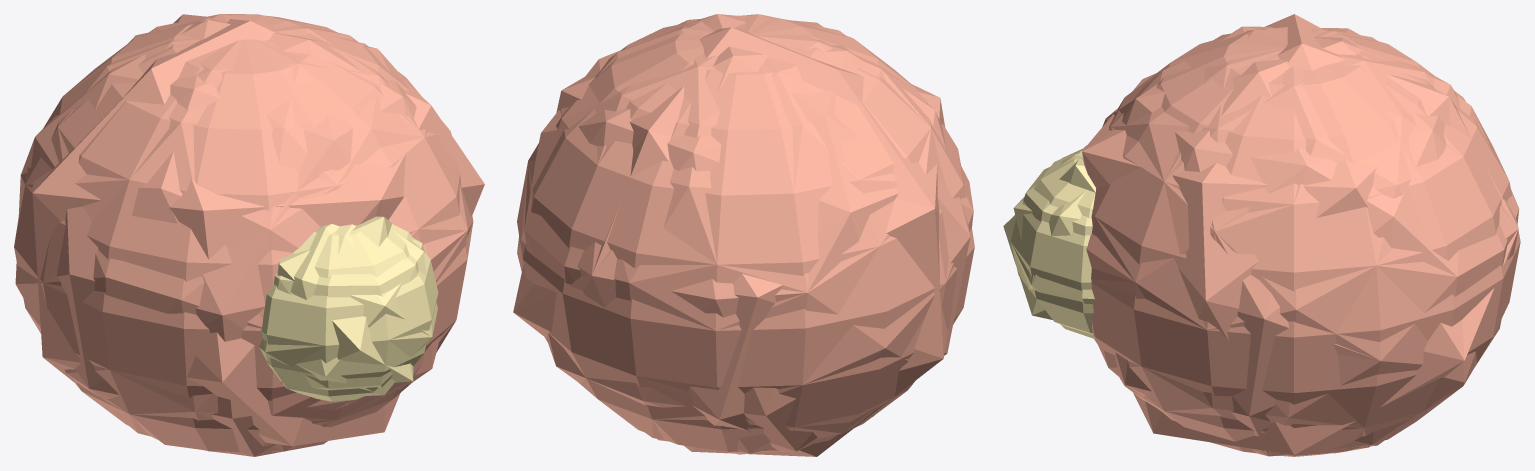
The model's file is SM_Sentinel.fbx.
The picture shows the model from 3 angles, left to right: view 1: azimuth 30°, elevation 25°; view 2: azimuth 150°, elevation 25°; view 3: azimuth 270°, elevation 25°; orthographic projection. The views are drawn at different scales.
Visible parts, largest first — view 1: SM_Sentinel, LOD1_SM_Sentinel, LOD3_SM_Sentinel, LOD2_SM_Sentinel; view 2: SM_Sentinel, LOD1_SM_Sentinel, LOD2_SM_Sentinel, LOD3_SM_Sentinel; view 3: SM_Sentinel, LOD1_SM_Sentinel, LOD3_SM_Sentinel, LOD2_SM_Sentinel.
Boxes of the visible parts, box(x1,y1,x2,y2) form: SM_Sentinel: box(14, 14, 473, 453); LOD1_SM_Sentinel: box(15, 14, 473, 452); LOD3_SM_Sentinel: box(32, 14, 484, 446); LOD2_SM_Sentinel: box(21, 19, 467, 456); SM_Sentinel: box(517, 15, 974, 452); LOD1_SM_Sentinel: box(517, 14, 973, 454); LOD2_SM_Sentinel: box(524, 14, 970, 451); LOD3_SM_Sentinel: box(513, 27, 947, 456); SM_Sentinel: box(1010, 27, 1520, 456); LOD1_SM_Sentinel: box(1011, 29, 1519, 456); LOD3_SM_Sentinel: box(1003, 14, 1518, 455); LOD2_SM_Sentinel: box(1013, 26, 1518, 456).
Bounding box in the file's own units: 0.3612 × 0.3491 × 0.4108.
